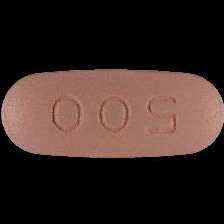47335-539: (0, 0, 224, 224)
